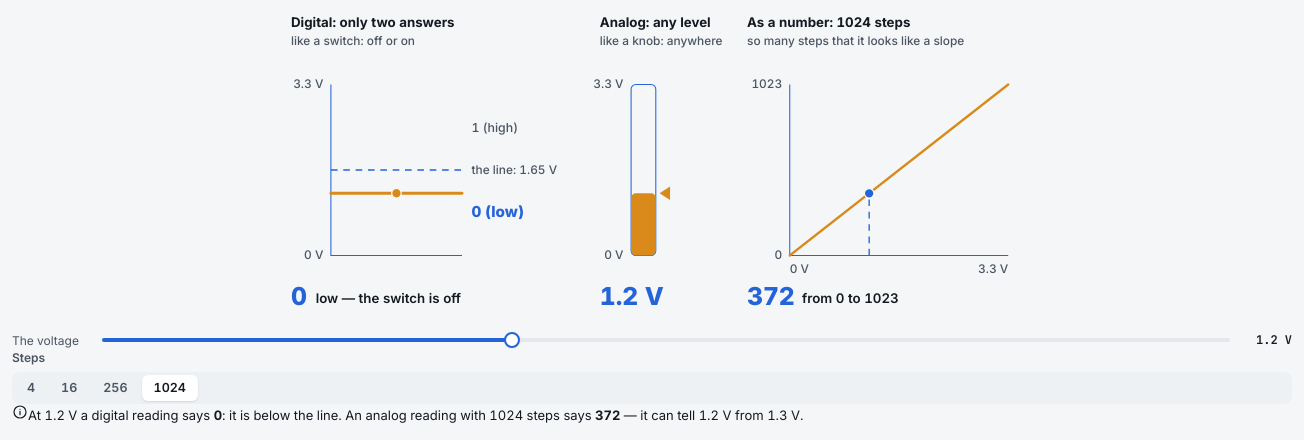
Test case: digital and analog: two levels, any level, and the staircase › few steps cannot tell near voltages apart; many can
Click the radio button labelled "4" at (31, 388), box [15,375,47,401]
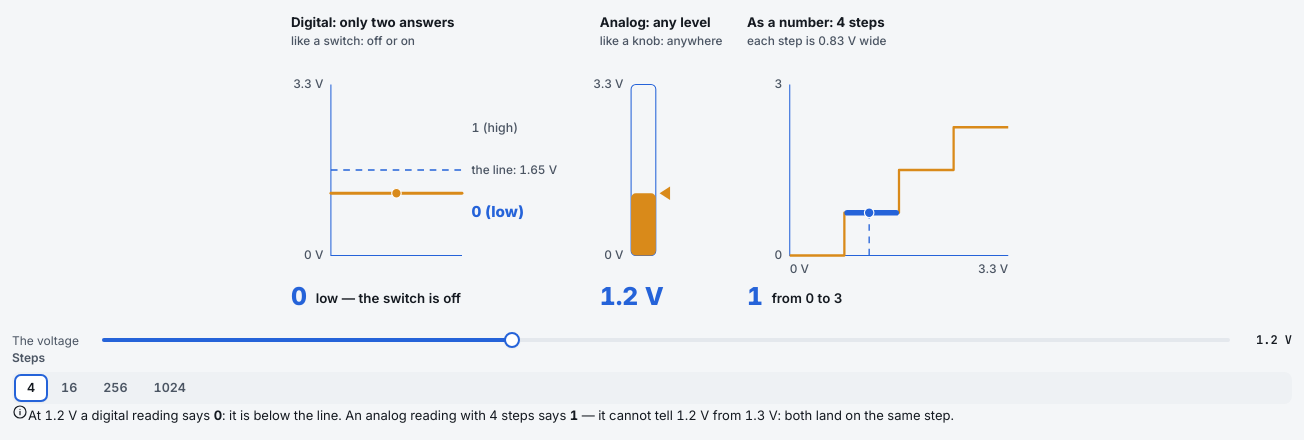
Expected: the text "At 1.2 V a digital reading says 0: it is below the line. An analog reading with 4 steps says 1 — it cannot tell 1.2 V from 1.3 V: both land on the same step." is shown, [28,407,954,423]
Click the radio button labelled "16" at (69, 388), box [49,375,89,401]
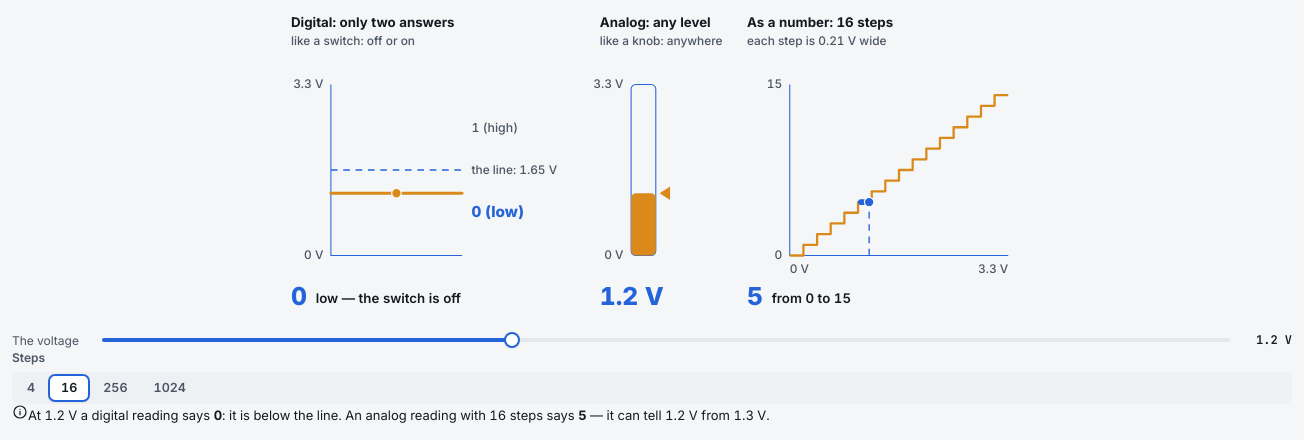
Expected: the text "with 16 steps says 5 — it can tell 1.2 V from 1.3 V." is shown, [28,407,770,423]
